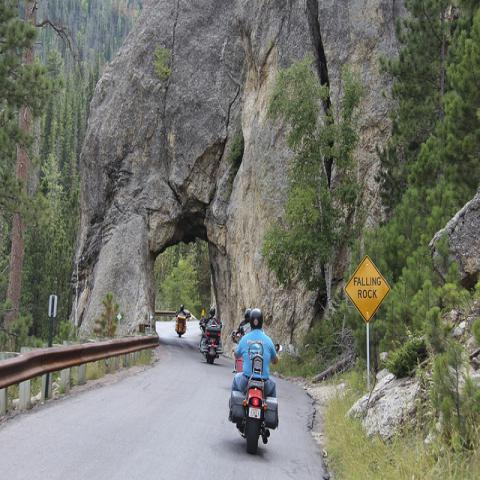motorcycle: (228, 354, 278, 454), (200, 309, 223, 364), (231, 342, 244, 375), (175, 313, 187, 338), (231, 330, 236, 340)
